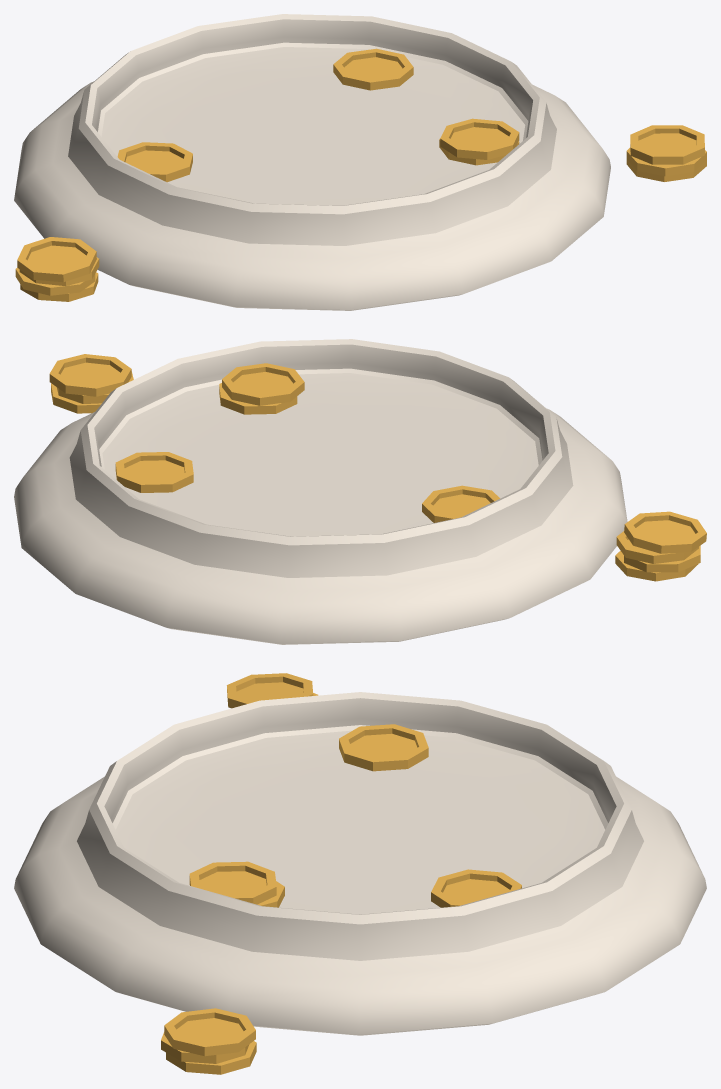
File: gold_Platform002.fbx
The picture shows the model from 3 angles, top to bottom: view 1: azimuth 30°, elevation 25°; view 2: azimuth 150°, elevation 25°; view 3: azimuth 270°, elevation 25°; orthographic projection. The views are drawn at different scales.
Visible parts, largest first — view 1: Gold.001; view 2: Gold.001; view 3: Gold.001.
Part boxes in pixels (<box>): Gold.001: <box>14,14,706,310</box>; Gold.001: <box>14,339,706,644</box>; Gold.001: <box>14,673,706,1074</box>.
Size of the model in its own units: 284 by 33.44 by 227.
